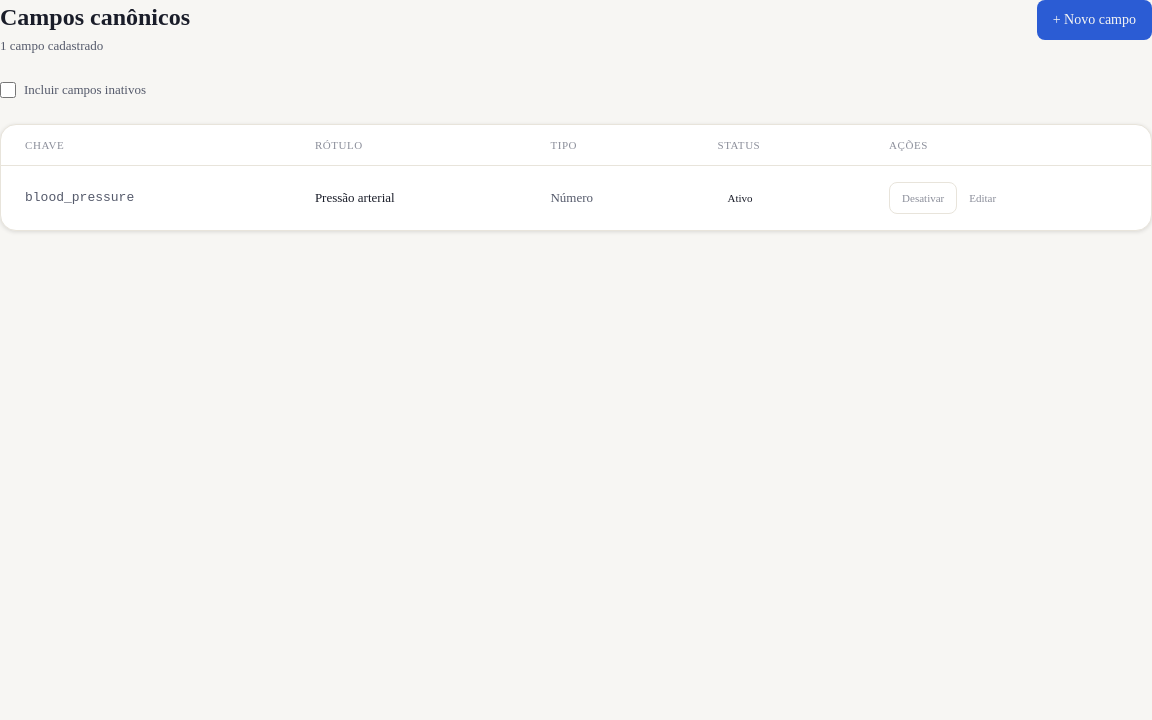
Test: CanonicalFieldList (integration) › closes toggle dialog when cancel is clicked
Expected: the table with test id "canonical-field-list-table" is shown, left=1, top=125, right=1151, bottom=230
Click the button with test id "canonical-field-toggle-button-uuid-1" at (923, 198), box left=889, top=182, right=957, bottom=214
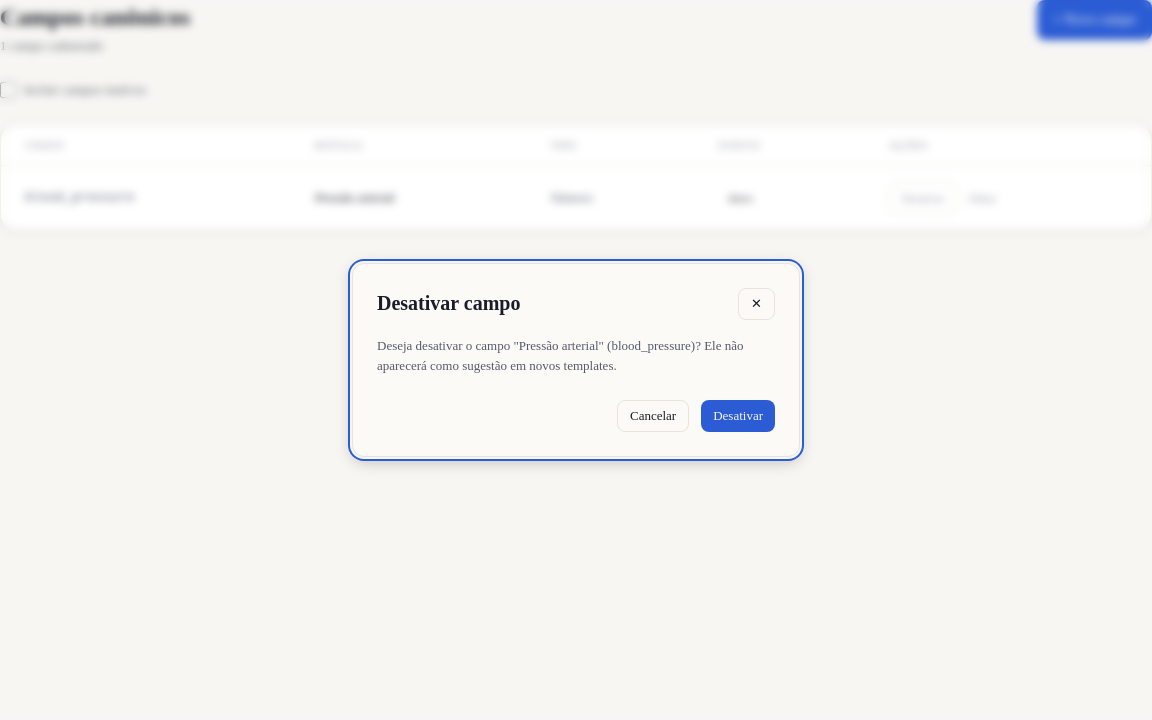
Now the button with test id "canonical-field-toggle-dialog-cancel" is shown
Click the button with test id "canonical-field-toggle-dialog-cancel" at (653, 416), box left=617, top=400, right=689, bottom=432
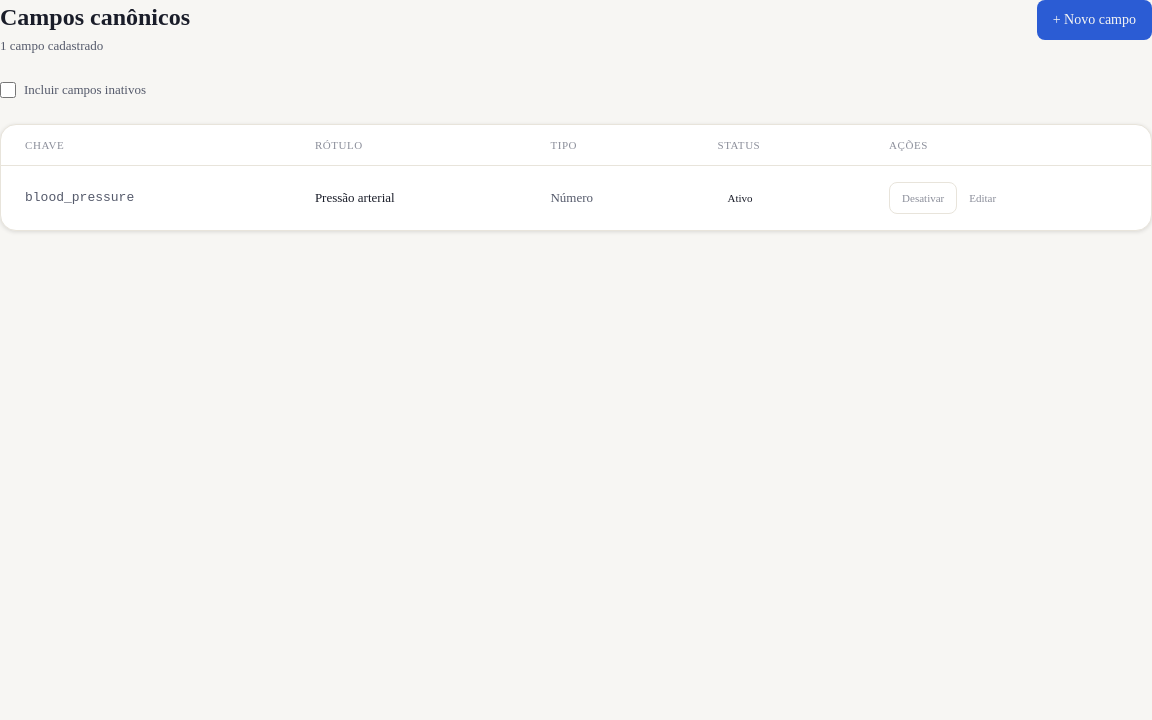
Now the button with test id "canonical-field-toggle-dialog-cancel" is gone
